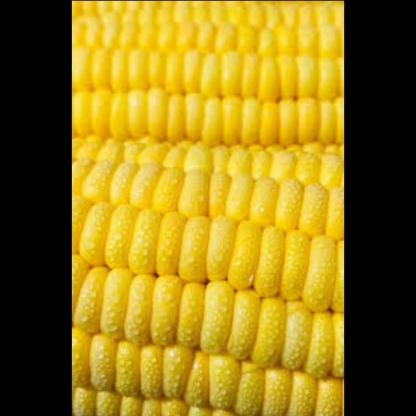corn: (71, 1, 344, 416)
